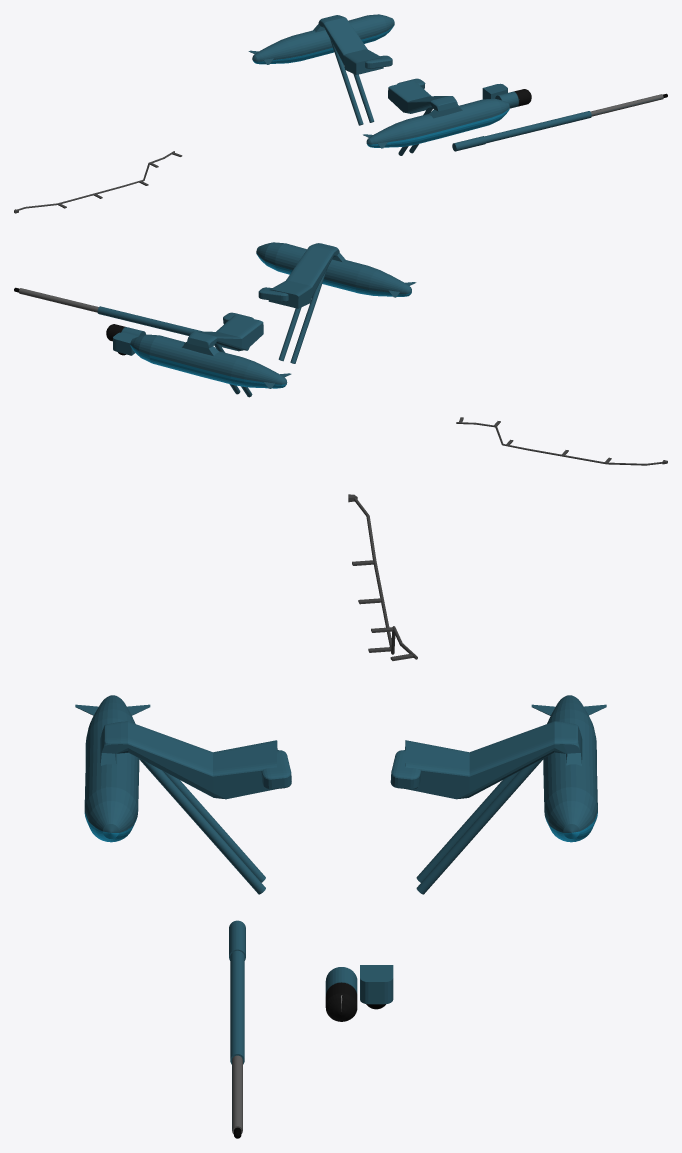
The model's file is UH60J_ocean.glb.
3 renders of one model, top to bottom at view 1: azimuth 30°, elevation 25°; view 2: azimuth 150°, elevation 25°; view 3: azimuth 270°, elevation 25°, orthographic. The views are drawn at different scales.
Parts seen in each view (by area): view 1: 円柱.003; view 2: 円柱.003; view 3: 円柱.003.
Part boxes in pixels (x1,y1,x2,y2): 円柱.003: [14, 14, 667, 213]; 円柱.003: [14, 242, 667, 465]; 円柱.003: [75, 494, 606, 1138].
Size of the model in its own units: 14.73 by 1.87 by 5.42.
Materials: 1 (1 with a texture image).
